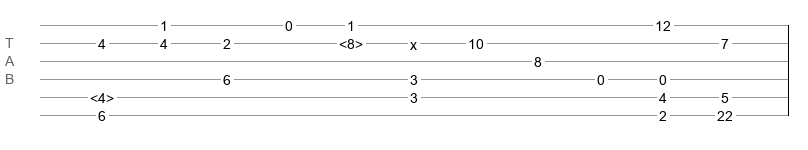0: (285, 18, 293, 28), (597, 72, 605, 82), (659, 72, 667, 82)
1: (160, 18, 168, 28), (347, 18, 355, 28)
10: (468, 36, 484, 46)
12: (655, 18, 671, 28)
2: (223, 36, 231, 46), (659, 108, 667, 118)
22: (717, 108, 733, 118)
3: (410, 72, 418, 82), (410, 90, 418, 100)
4: (98, 36, 106, 46), (160, 36, 168, 46), (659, 90, 667, 100)
5: (721, 90, 729, 100)
6: (98, 108, 106, 118), (223, 72, 231, 82)
7: (721, 36, 729, 46)
8: (534, 54, 542, 64)
harmonic: (90, 90, 114, 100), (339, 36, 363, 46)
x: (410, 37, 417, 45)
